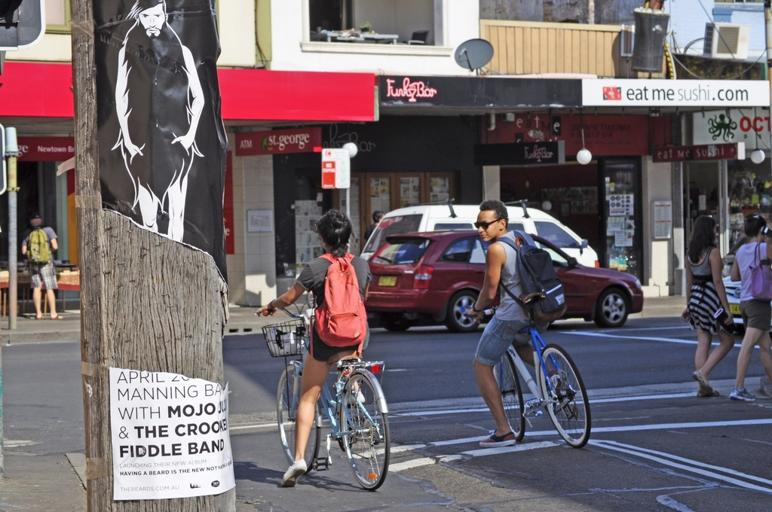non-vehicle: (254, 293, 390, 490), (463, 303, 590, 448)
